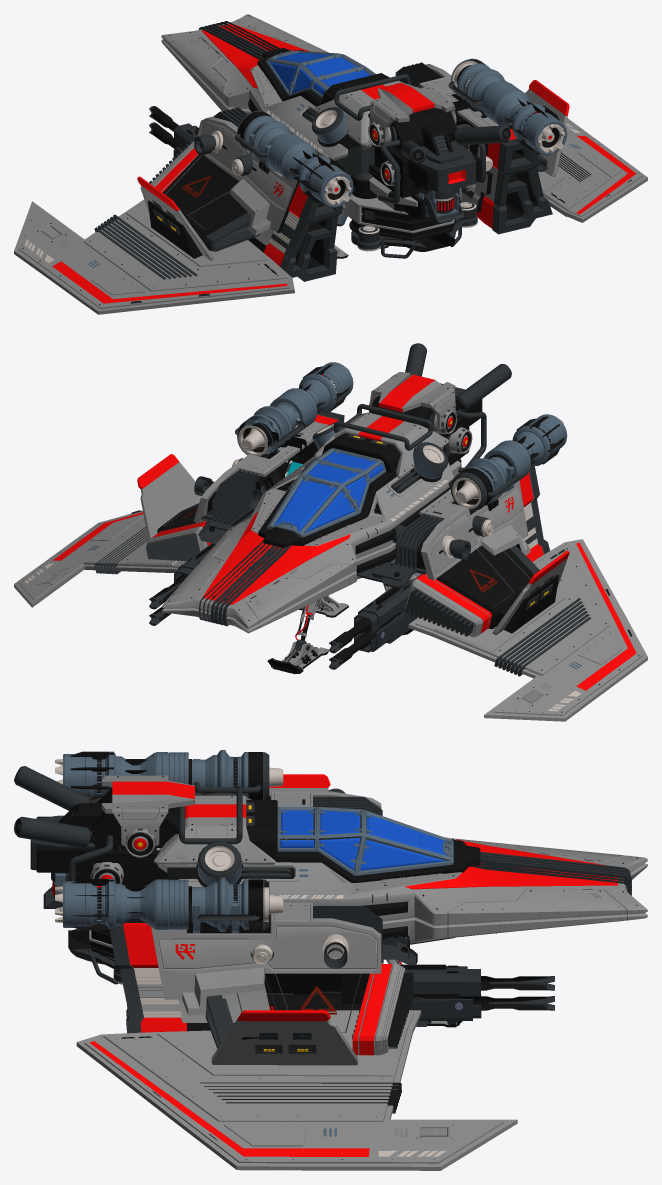
Rendered from naveCaza.obj.
3 renders of one model, top to bottom at view 1: azimuth 30°, elevation 25°; view 2: azimuth 150°, elevation 25°; view 3: azimuth 270°, elevation 25°, orthographic. The views are drawn at different scales.
Parts seen in each view (by area): view 1: Utopia_Speeder_blanco_nave, Utopia_Speeder_metal_neutro.002, Utopia_Speeder_metalic_dark.002, Utopia_Speeder_metal_alumi.002, Utopia_Speeder_red.002, Utopia_Speeder_blanco_especial.002, Utopia_Speeder_vidrio.001, Utopia_Speeder_muestra; view 2: Utopia_Speeder_blanco_nave, Utopia_Speeder_metal_neutro.002, Utopia_Speeder_metalic_dark.002, Utopia_Speeder_metal_alumi.002, Utopia_Speeder_red.002, Utopia_Speeder_vidrio.001, Utopia_Speeder_blanco_especial.002, Utopia_Speeder_muestra; view 3: Utopia_Speeder_blanco_nave, Utopia_Speeder_metal_neutro.002, Utopia_Speeder_metalic_dark.002, Utopia_Speeder_metal_alumi.002, Utopia_Speeder_red.002, Utopia_Speeder_vidrio.001, Utopia_Speeder_blanco_especial.002, Utopia_Speeder_muestra.
Part boxes in pixels (left/top/right/bottom): Utopia_Speeder_blanco_nave: left=14, top=14, right=647, bottom=314; Utopia_Speeder_metal_neutro.002: left=94, top=21, right=631, bottom=303; Utopia_Speeder_metalic_dark.002: left=148, top=25, right=559, bottom=269; Utopia_Speeder_metal_alumi.002: left=87, top=50, right=581, bottom=268; Utopia_Speeder_red.002: left=52, top=24, right=636, bottom=303; Utopia_Speeder_blanco_especial.002: left=24, top=61, right=580, bottom=262; Utopia_Speeder_vidrio.001: left=269, top=52, right=370, bottom=95; Utopia_Speeder_muestra: left=41, top=82, right=454, bottom=246; Utopia_Speeder_blanco_nave: left=14, top=400, right=647, bottom=721; Utopia_Speeder_metal_neutro.002: left=94, top=343, right=632, bottom=676; Utopia_Speeder_metalic_dark.002: left=152, top=364, right=564, bottom=673; Utopia_Speeder_metal_alumi.002: left=87, top=362, right=581, bottom=669; Utopia_Speeder_red.002: left=53, top=374, right=636, bottom=690; Utopia_Speeder_vidrio.001: left=274, top=451, right=383, bottom=532; Utopia_Speeder_blanco_especial.002: left=24, top=367, right=581, bottom=711; Utopia_Speeder_muestra: left=40, top=372, right=552, bottom=703; Utopia_Speeder_blanco_nave: left=76, top=788, right=647, bottom=1170; Utopia_Speeder_metal_neutro.002: left=14, top=752, right=631, bottom=1140; Utopia_Speeder_metalic_dark.002: left=15, top=751, right=612, bottom=1039; Utopia_Speeder_metal_alumi.002: left=55, top=750, right=453, bottom=1136; Utopia_Speeder_red.002: left=89, top=774, right=618, bottom=1156; Utopia_Speeder_vidrio.001: left=280, top=810, right=447, bottom=870; Utopia_Speeder_blanco_especial.002: left=53, top=759, right=446, bottom=1156; Utopia_Speeder_muestra: left=101, top=775, right=449, bottom=1137.
Size of the model in its own units: 34.9 by 11.48 by 28.47.
